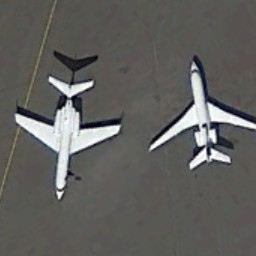Airplane: (10, 67, 126, 205), (143, 51, 256, 176)
